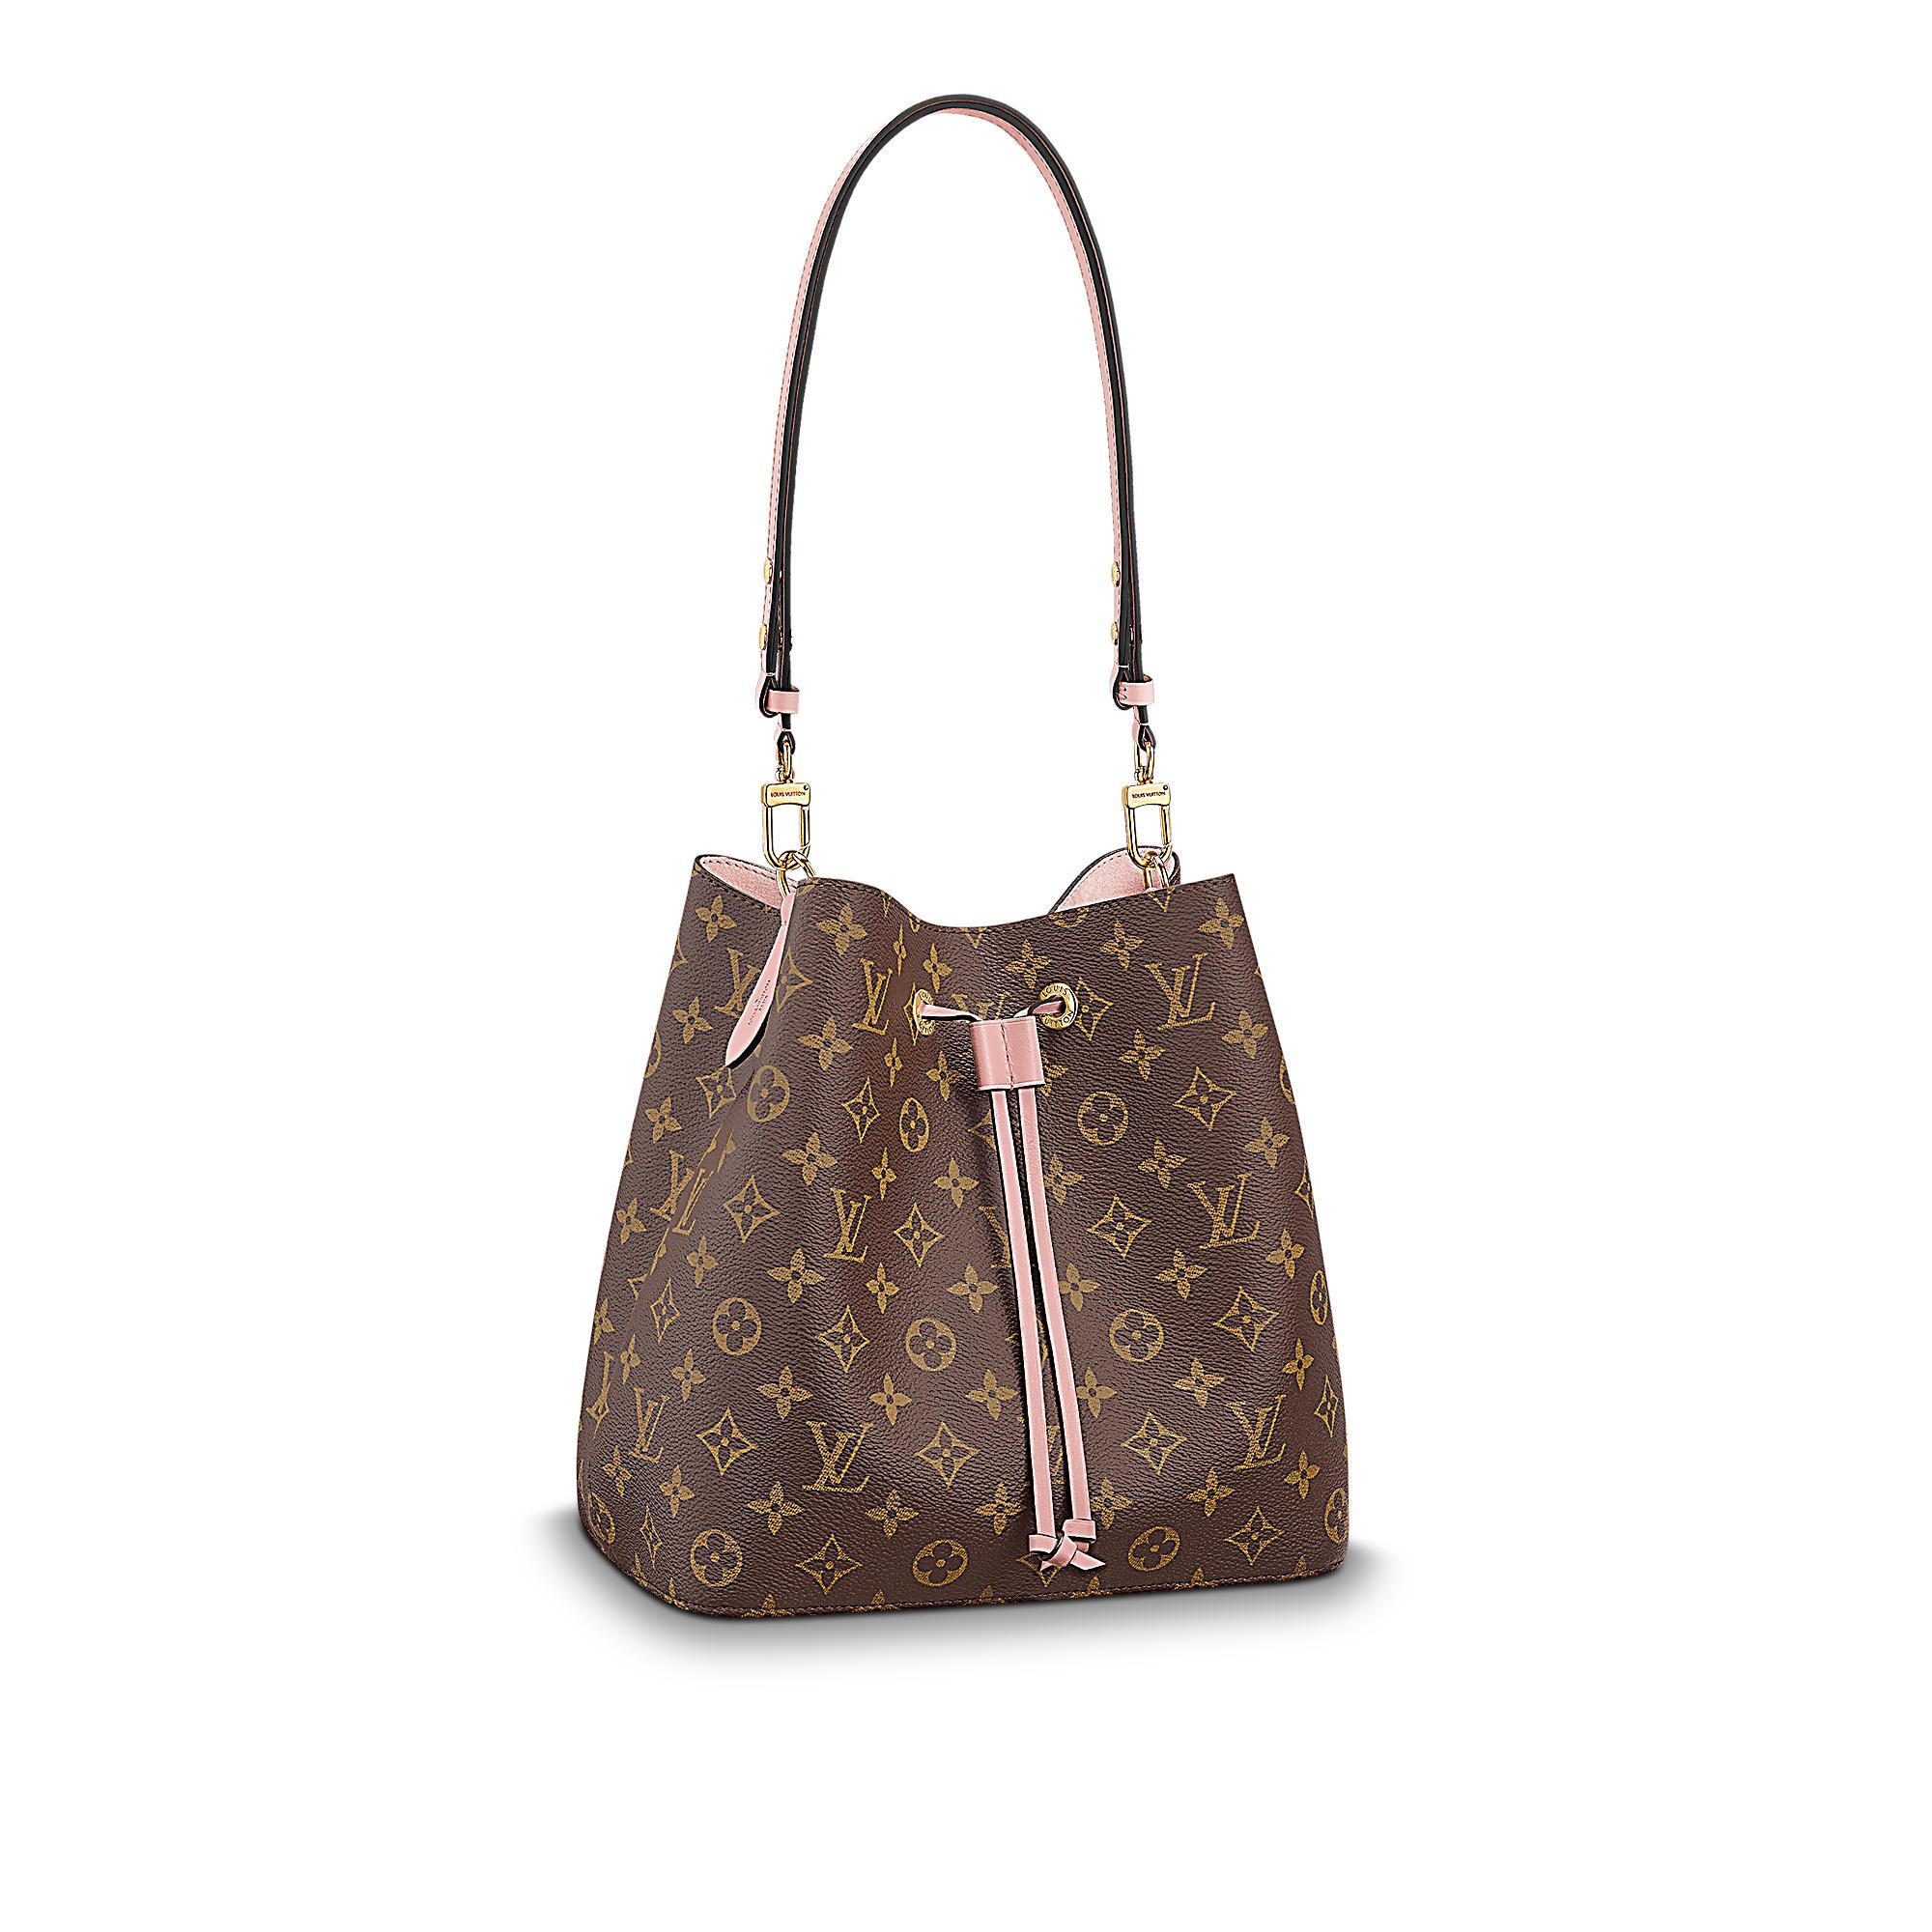LOUIS-VUITTON: (1182, 1171, 1261, 1251), (796, 1414, 872, 1495), (1146, 950, 1217, 1035), (1228, 1391, 1286, 1476), (823, 1184, 870, 1265), (847, 954, 893, 1035), (625, 1384, 671, 1463), (669, 1164, 713, 1237)
